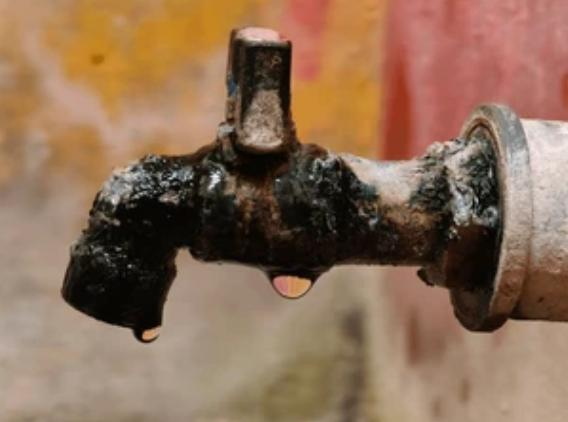water drop: (263, 262, 326, 300), (131, 324, 162, 343)
